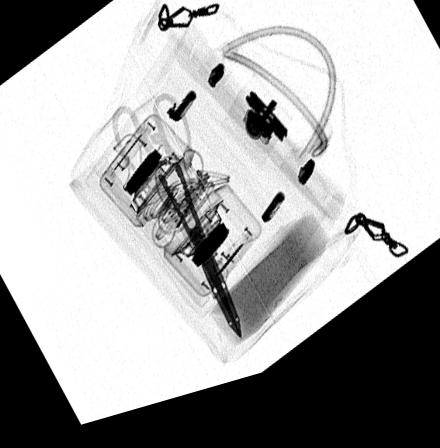Scissors: (113, 100, 241, 351)
